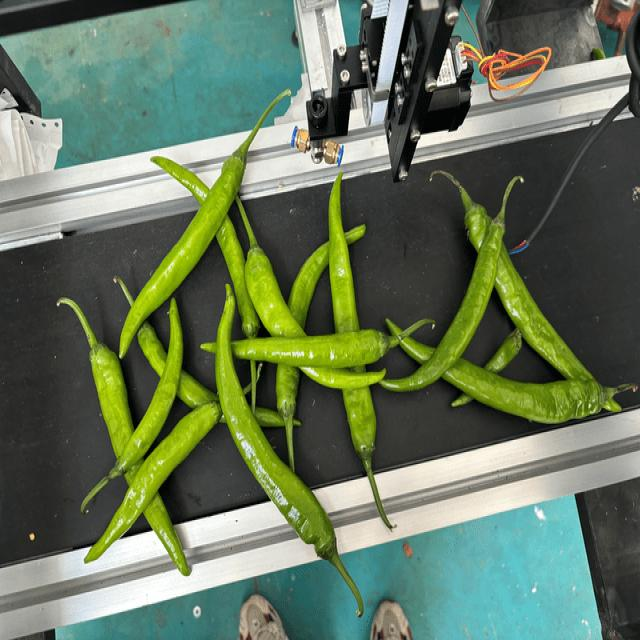chili: (215, 276, 336, 566), (462, 199, 624, 412), (117, 148, 248, 365), (384, 314, 607, 426), (88, 338, 192, 577), (377, 214, 508, 395), (81, 400, 222, 566), (242, 244, 390, 390), (147, 153, 258, 338), (274, 219, 368, 421), (134, 319, 307, 427), (327, 163, 377, 463), (113, 294, 184, 476), (196, 329, 392, 369), (447, 327, 524, 408)
